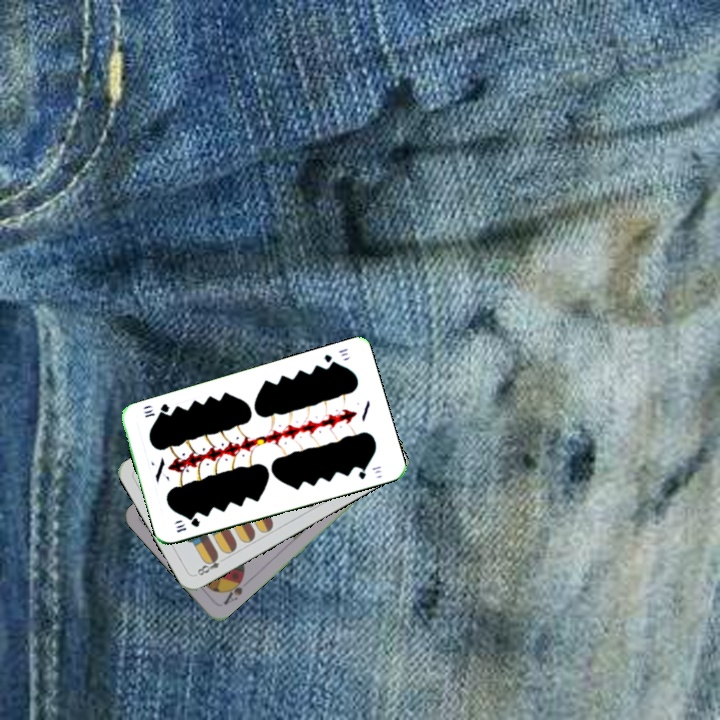E8: (192, 551, 229, 578)
G10: (320, 344, 351, 369), (173, 514, 202, 535)
SA: (219, 572, 247, 608)
